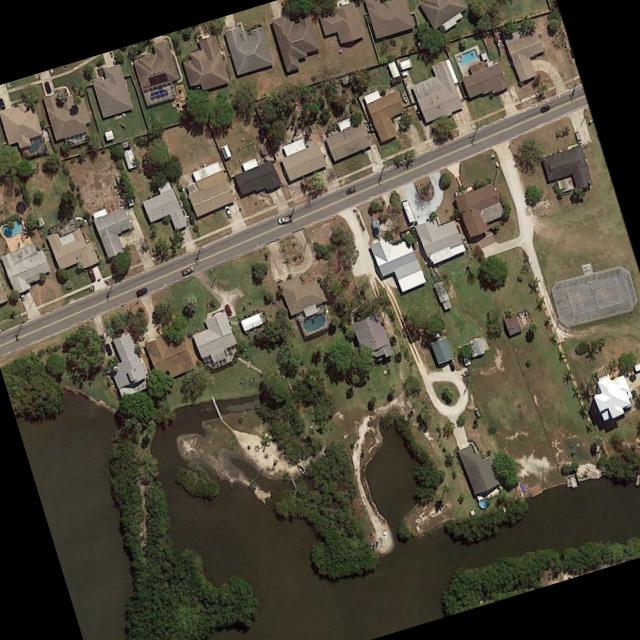large-vehicle: (401, 196, 416, 221)
ship: (369, 215, 382, 236), (399, 88, 409, 102), (296, 461, 307, 471)
small-vehicle: (277, 212, 292, 223), (181, 263, 195, 274), (135, 285, 149, 295), (87, 265, 96, 280), (42, 79, 52, 92), (344, 183, 357, 193), (223, 203, 233, 216), (104, 341, 113, 355), (415, 106, 424, 119), (538, 103, 550, 112), (224, 302, 232, 315), (473, 406, 481, 416), (0, 96, 5, 109), (19, 290, 26, 299)
